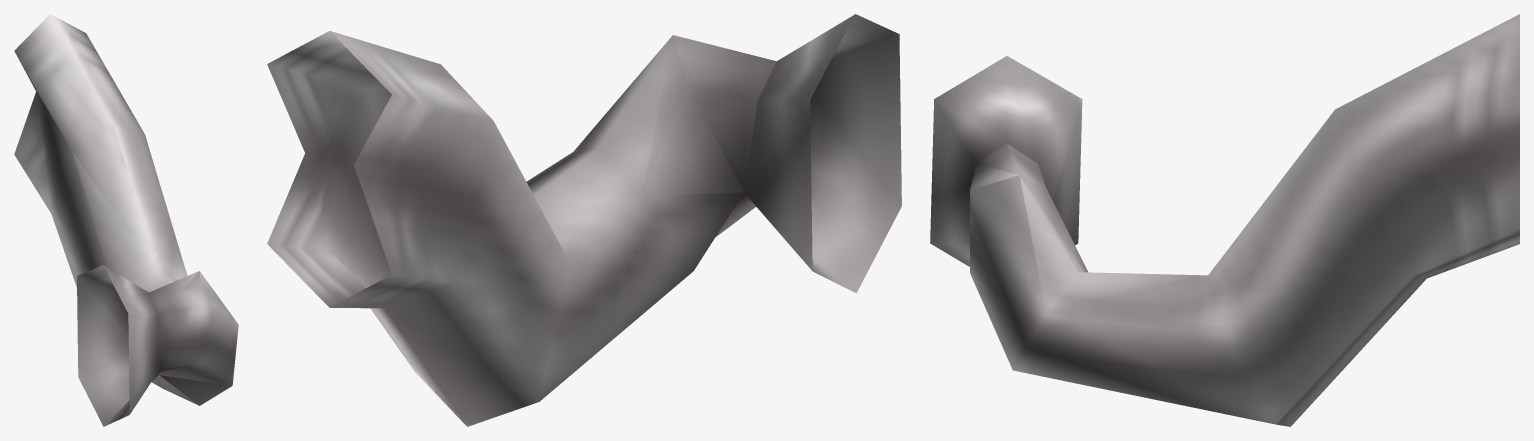
Rendered from acc_27.glb.
The picture shows the model from 3 angles, left to right: view 1: azimuth 30°, elevation 25°; view 2: azimuth 150°, elevation 25°; view 3: azimuth 270°, elevation 25°; orthographic projection. The views are drawn at different scales.
Visible parts, largest first — view 1: accessroy_rear_ww_0; view 2: accessroy_rear_ww_0; view 3: accessroy_rear_ww_0.
Boxes of the visible parts, x1,y1,x2,y2 form: accessroy_rear_ww_0: (14, 14, 238, 426); accessroy_rear_ww_0: (267, 14, 901, 426); accessroy_rear_ww_0: (930, 14, 1519, 426).
Size of the model in its own units: 0.3966 by 0.6735 by 0.8718.
1 material, 1 textured.
